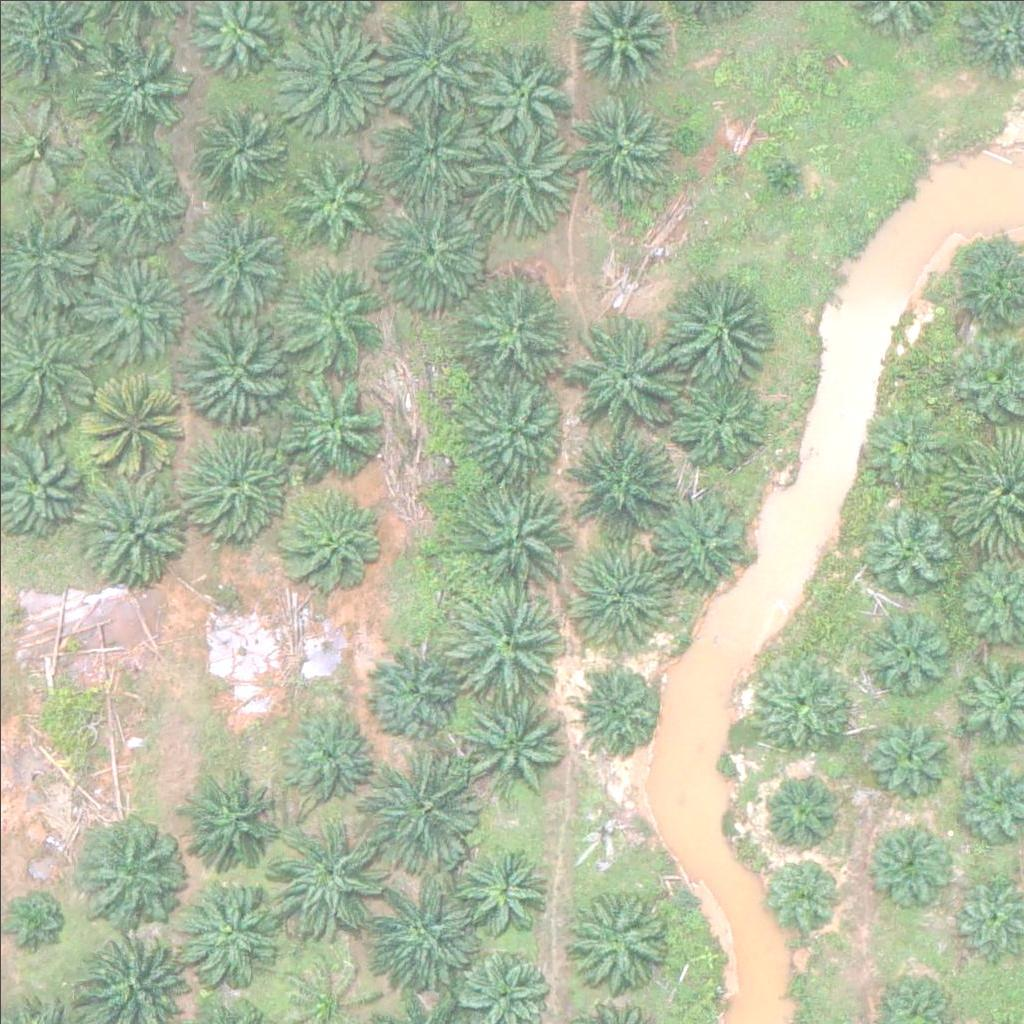Kelapa_Sawit: (278, 21, 391, 135), (369, 5, 482, 119), (452, 378, 565, 492), (364, 750, 477, 864), (461, 473, 574, 587), (563, 537, 676, 651), (177, 306, 290, 419), (275, 364, 388, 477), (664, 267, 777, 380), (363, 877, 476, 990), (273, 258, 385, 372), (170, 875, 282, 989), (275, 486, 387, 600), (565, 429, 677, 543), (81, 33, 193, 146), (372, 184, 484, 297), (461, 276, 573, 389), (461, 128, 573, 241), (573, 319, 685, 432), (79, 468, 191, 581), (189, 424, 301, 537), (76, 810, 188, 923), (272, 821, 384, 934), (451, 697, 563, 810), (447, 583, 559, 696), (92, 259, 192, 360), (90, 147, 190, 248), (184, 202, 284, 303), (283, 147, 383, 248), (471, 42, 571, 143), (670, 369, 770, 470), (367, 642, 467, 743), (453, 846, 553, 947), (564, 890, 664, 991), (751, 657, 851, 758), (859, 596, 959, 697), (651, 489, 751, 590), (86, 366, 186, 466), (192, 89, 292, 189), (381, 100, 481, 200), (570, 92, 670, 192), (181, 770, 281, 870), (278, 697, 378, 797), (860, 405, 948, 493), (576, 669, 663, 757), (864, 813, 951, 901), (757, 767, 844, 855), (863, 497, 950, 585), (868, 718, 955, 806), (766, 852, 841, 928), (762, 154, 812, 205)
